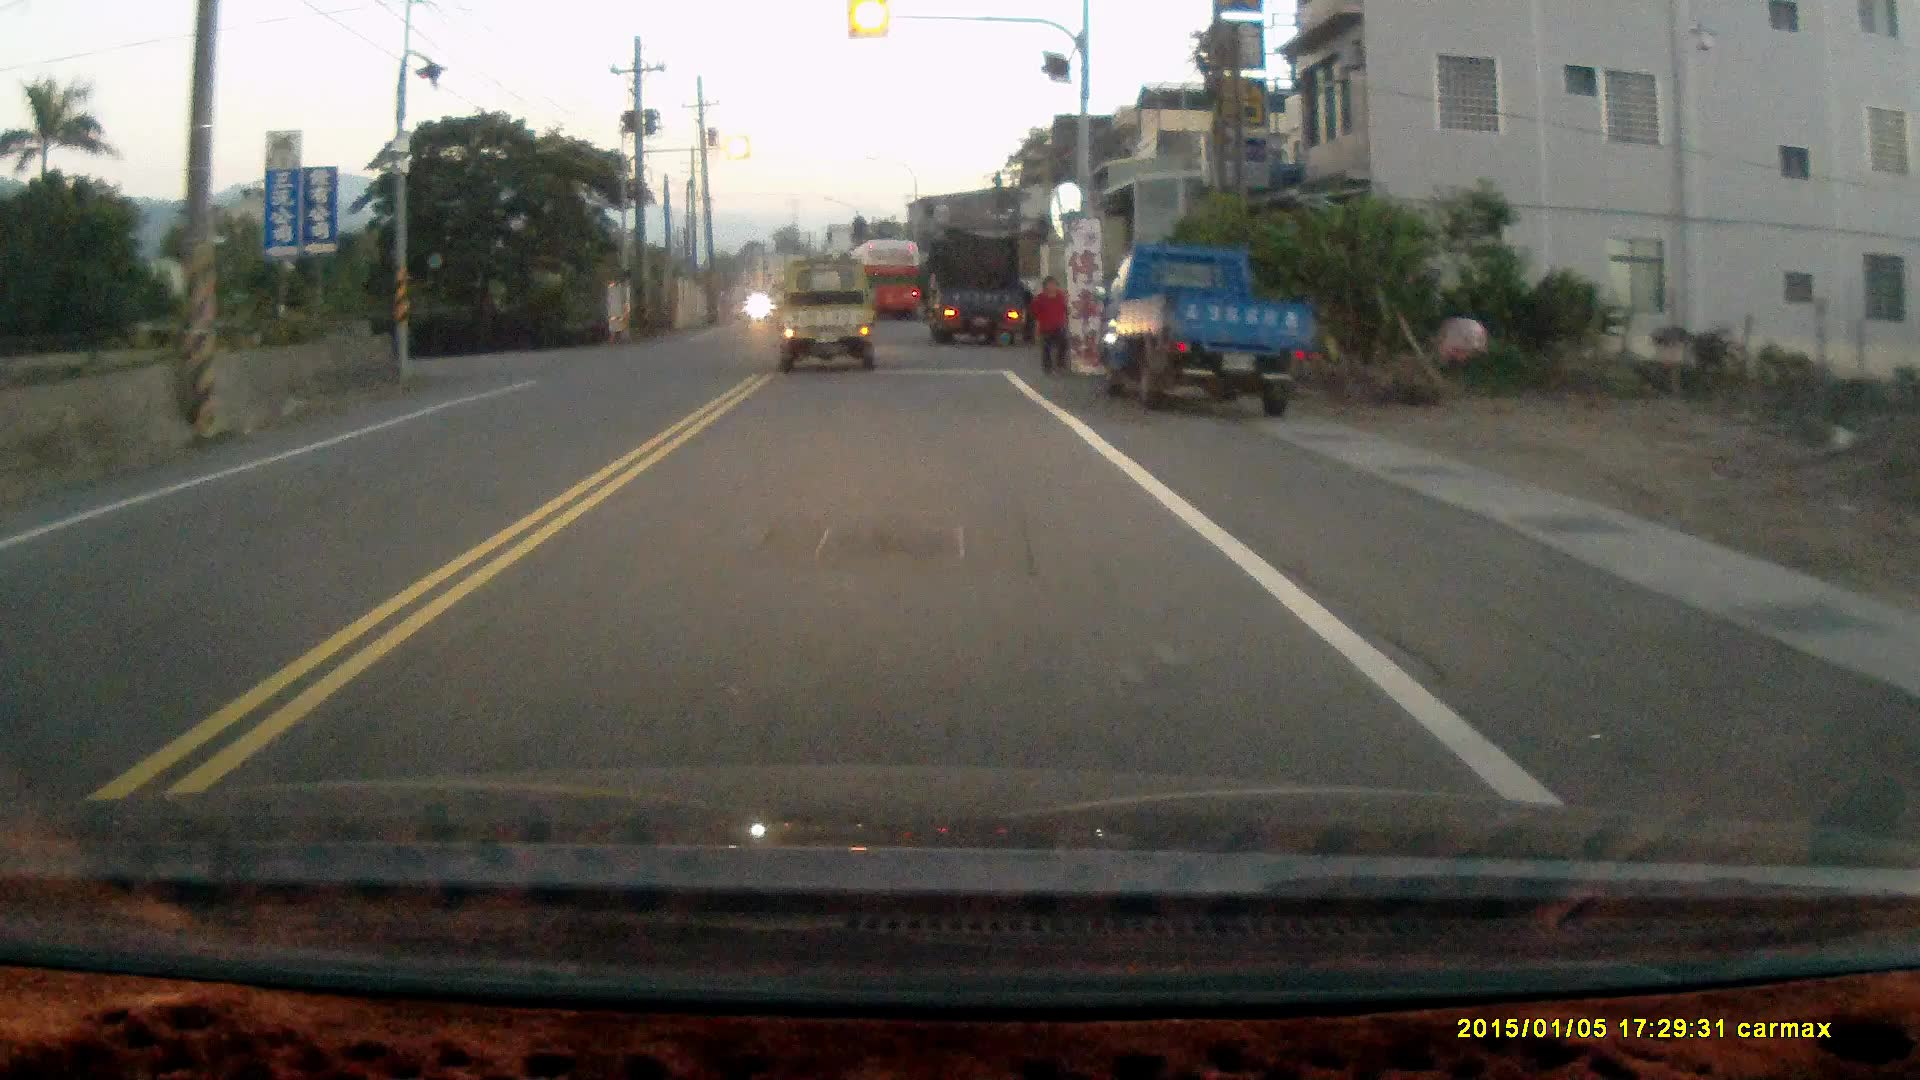pedestrian: (1024, 272, 1069, 383)
rider: (742, 280, 771, 329)
vehicle: (1090, 245, 1319, 417), (775, 263, 878, 375), (930, 237, 1029, 350), (851, 237, 927, 321)
